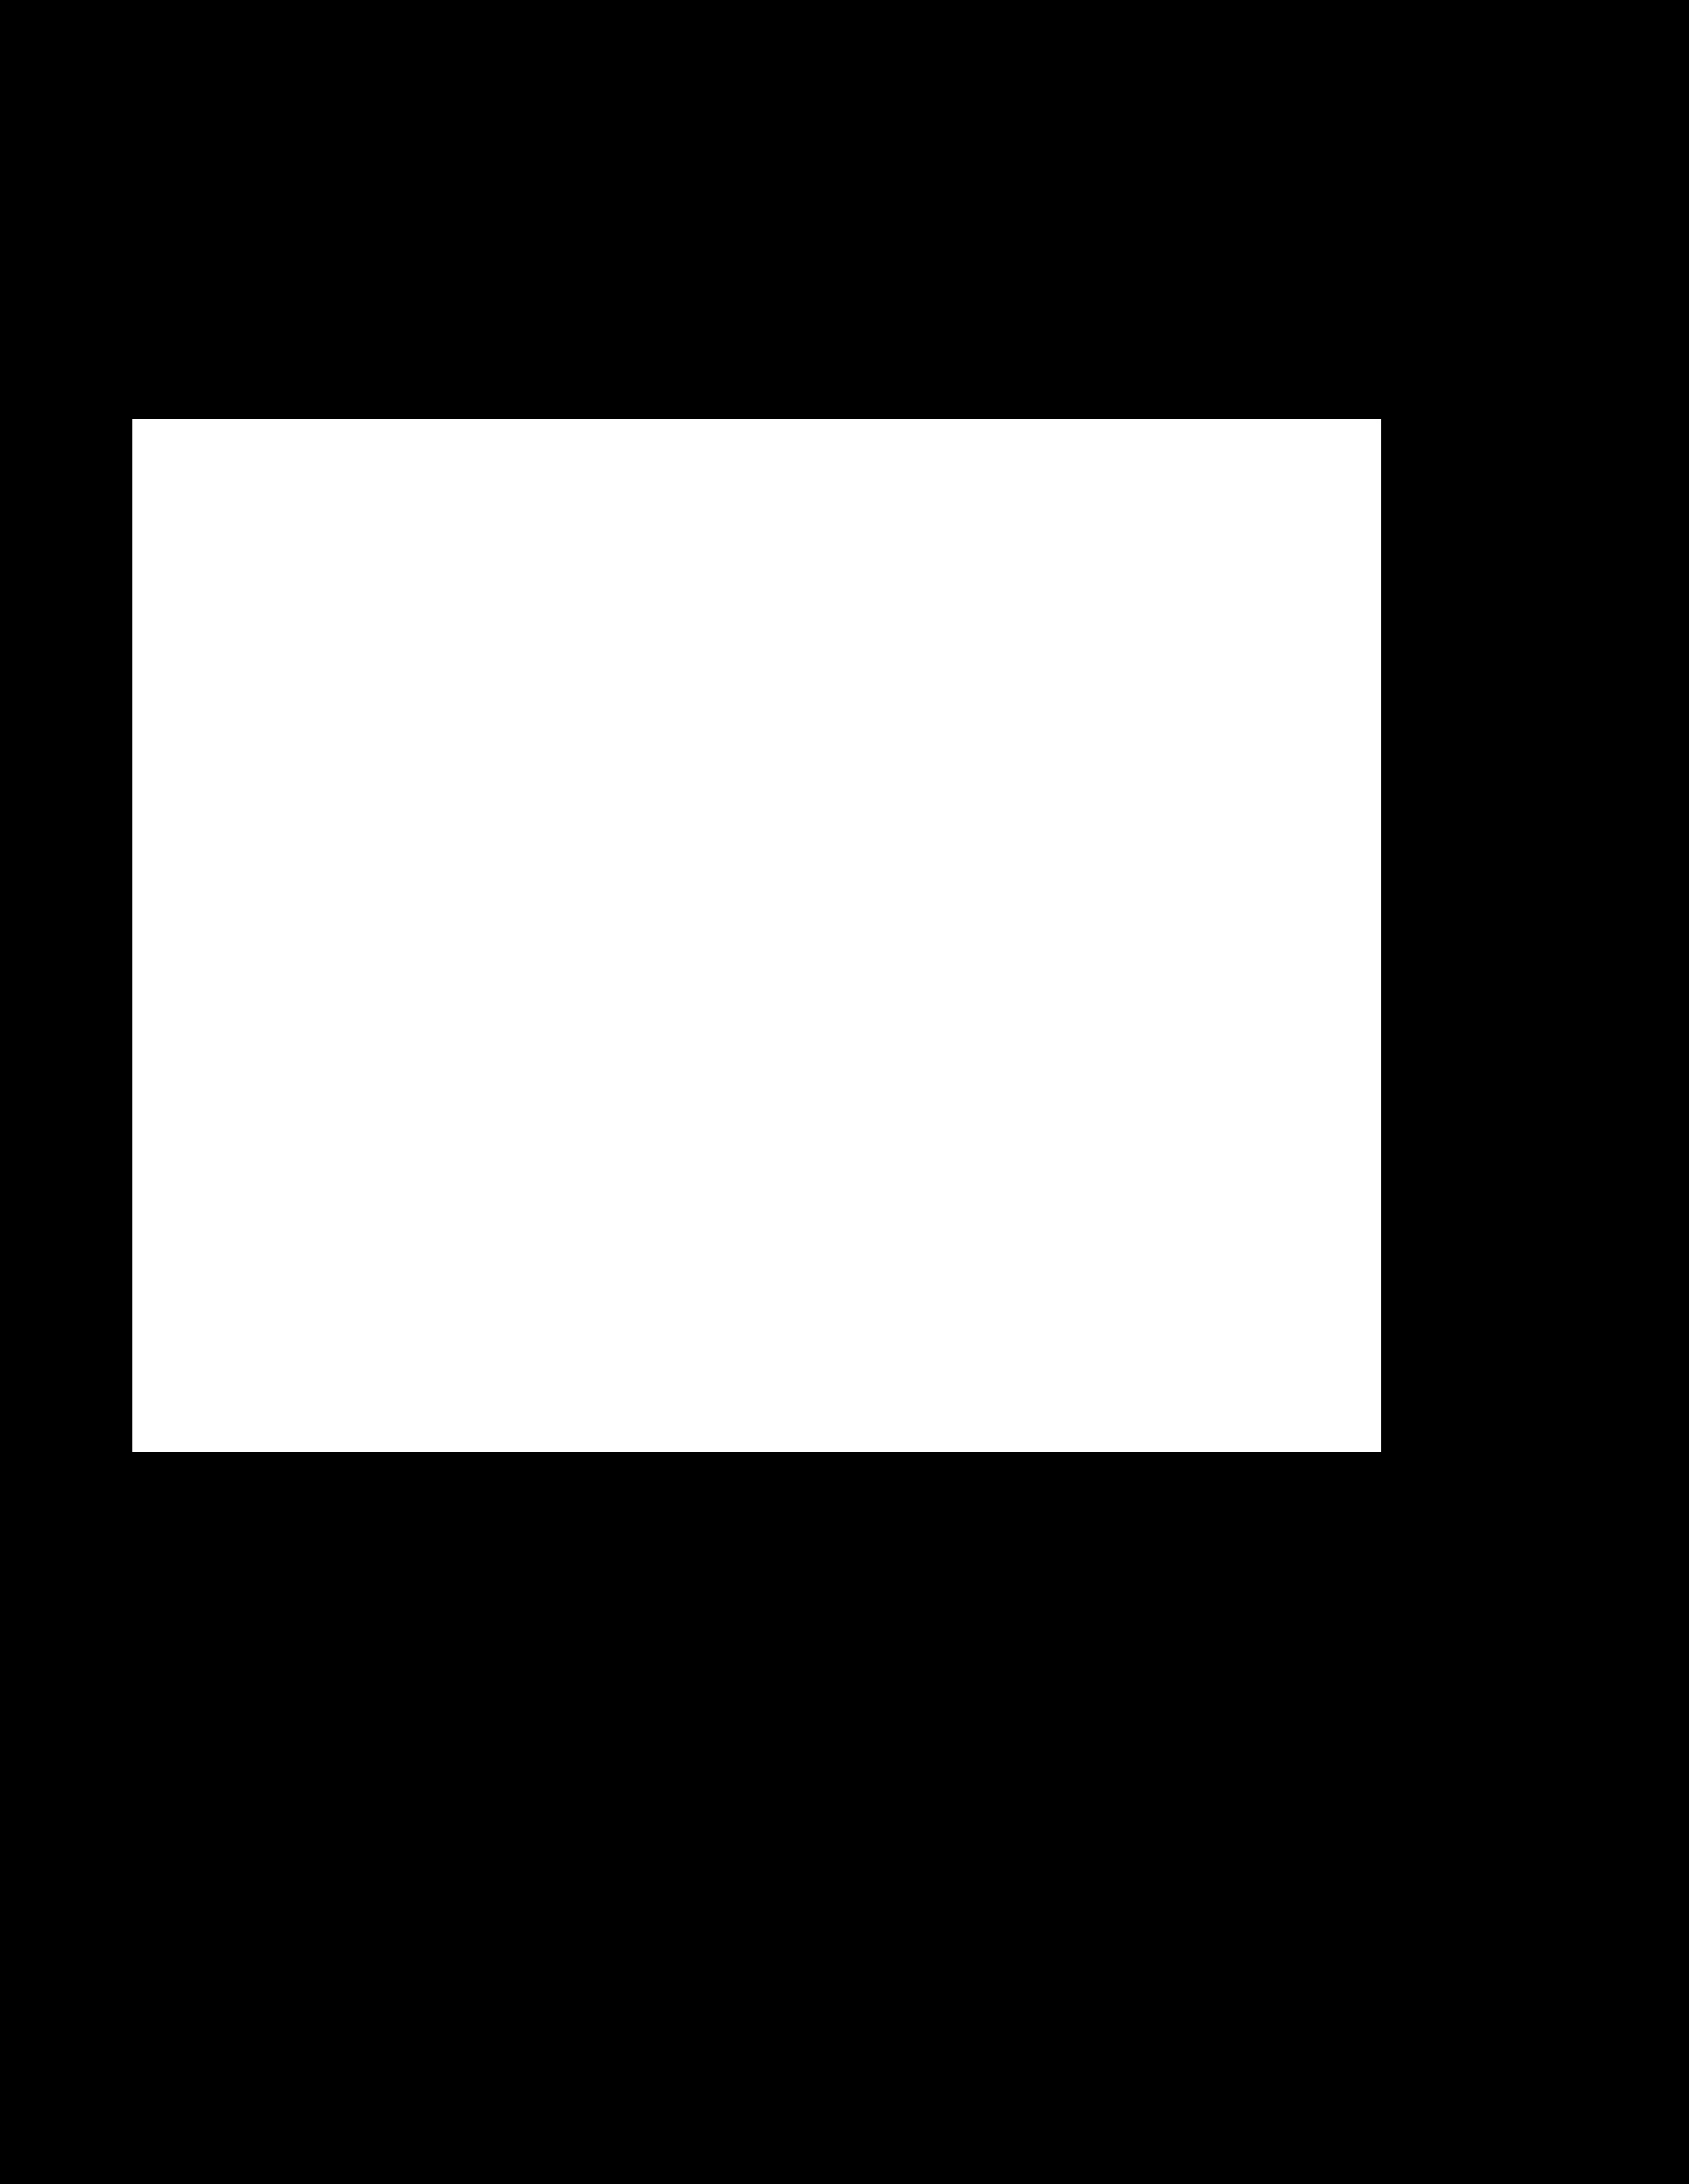table: (133, 418, 1381, 1452)
